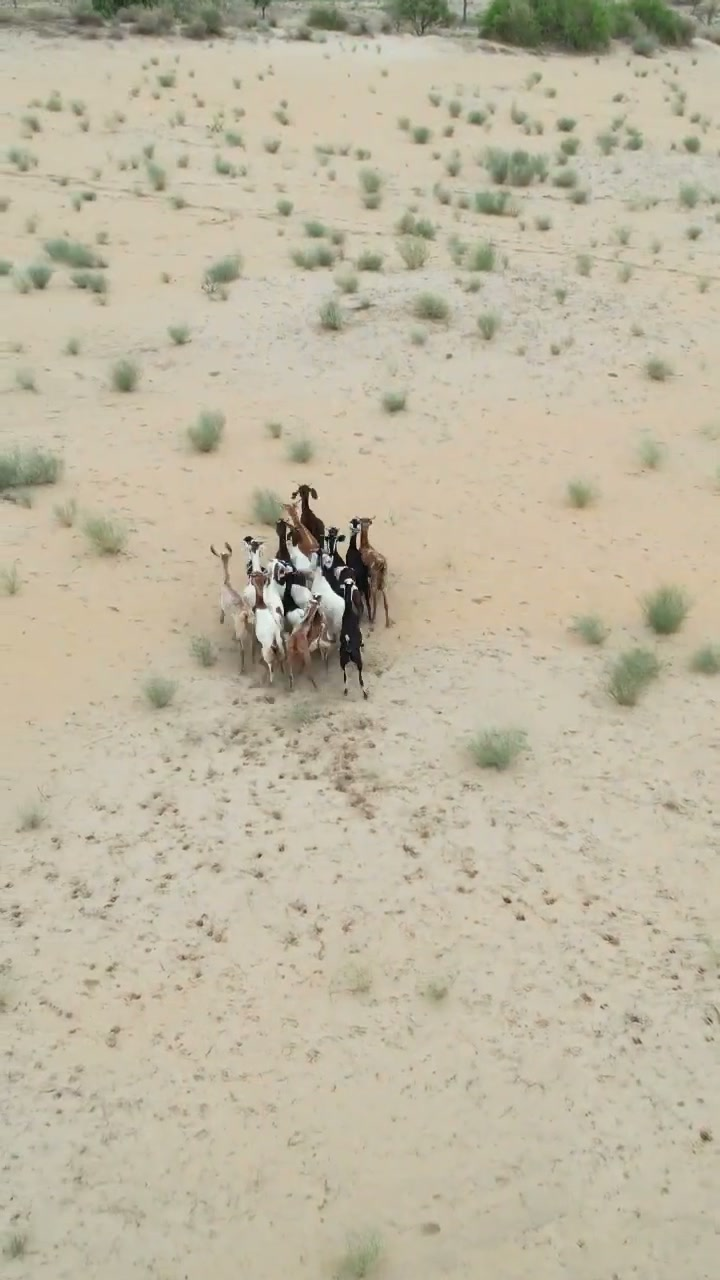animal_footprint: (18, 652, 703, 1244)
